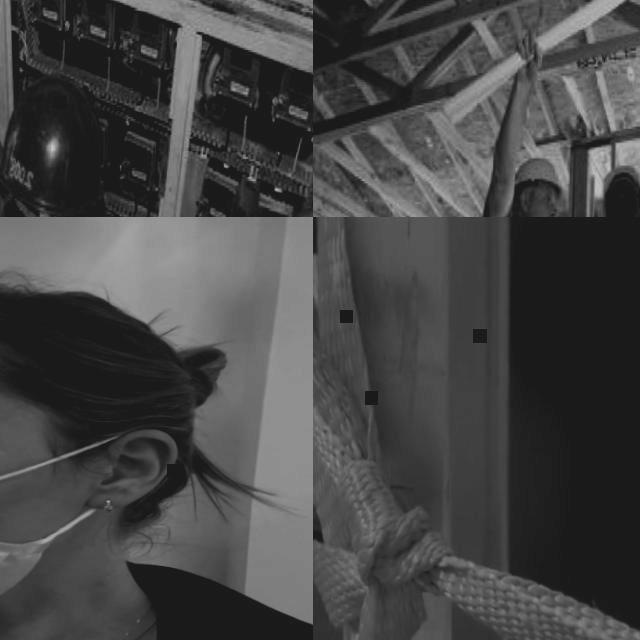helmet: (0, 74, 109, 217), (600, 164, 640, 217), (516, 158, 566, 188)
mask: (0, 418, 136, 614)
no_helmet: (0, 275, 212, 398)
no_mask: (611, 194, 636, 217), (525, 208, 555, 217)
person: (0, 267, 313, 640), (441, 0, 571, 217), (0, 70, 152, 217)
